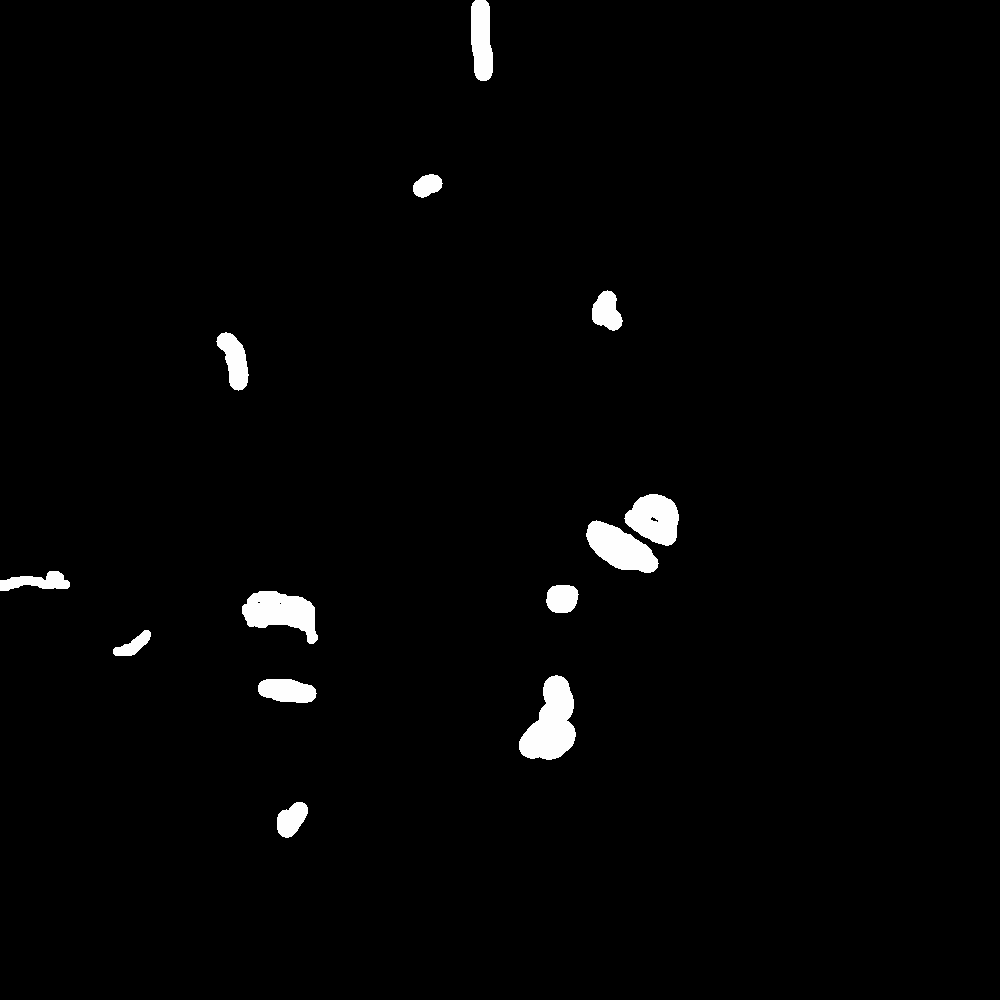illegal: (487, 680, 582, 763), (242, 573, 304, 631), (473, 1, 505, 107), (587, 513, 673, 549), (417, 147, 468, 201), (216, 333, 261, 390), (113, 618, 174, 657), (577, 289, 625, 336), (1, 565, 73, 594), (700, 565, 746, 597), (909, 758, 958, 788), (536, 24, 573, 59), (256, 684, 310, 705), (546, 588, 580, 614), (161, 652, 189, 683), (278, 806, 303, 832)
